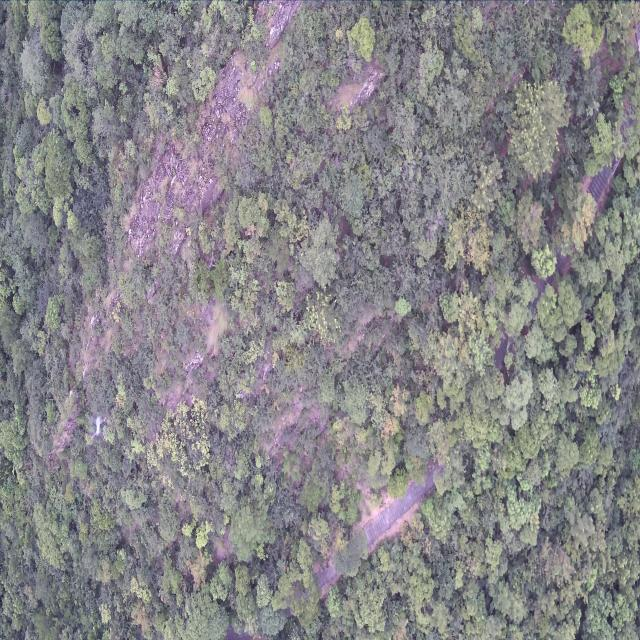UAV: (90, 414, 106, 442)
